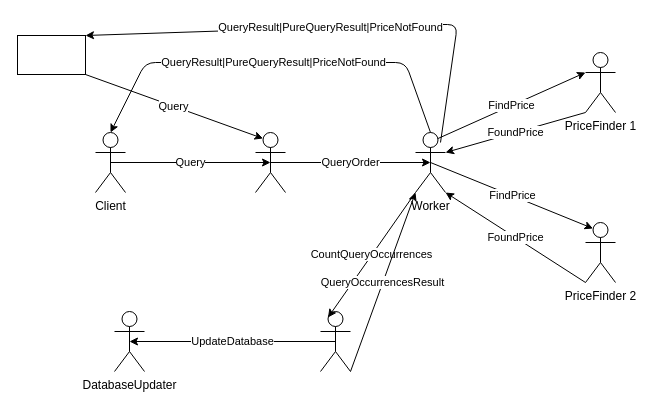
Some shapes in this 653 by 410 pixel diagram are drawn without their labels. The shapes that lost their labels are listed below. From the top down, each one's centre as x and y in pixels, then its label:
At pixel 51 54: "HttpServer".
At pixel 270 162: "Server".
At pixel 335 341: "QueryCounter".
